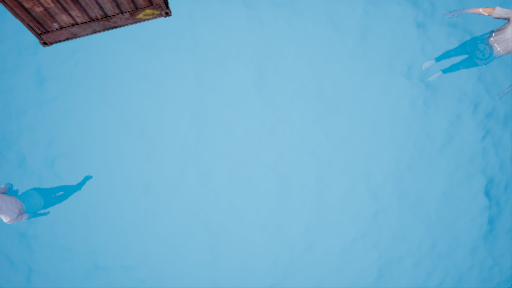person: (2, 175, 90, 236)
